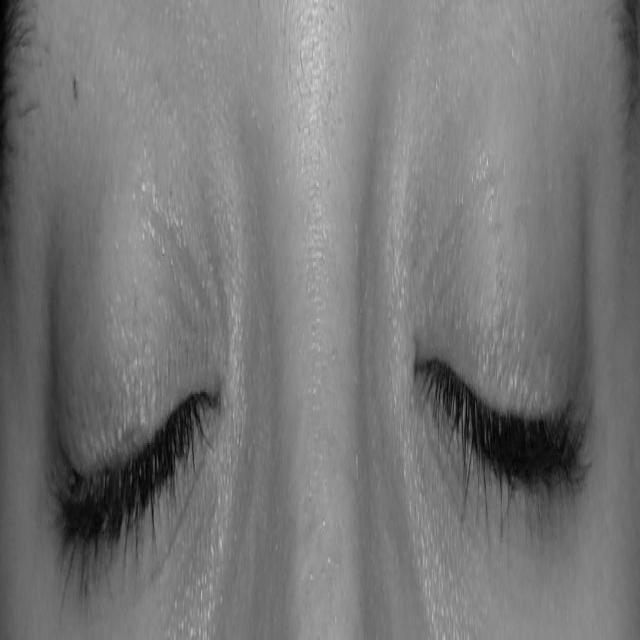real: (28, 67, 626, 624)
